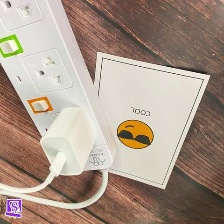three_eye_plug: (0, 0, 120, 180)
